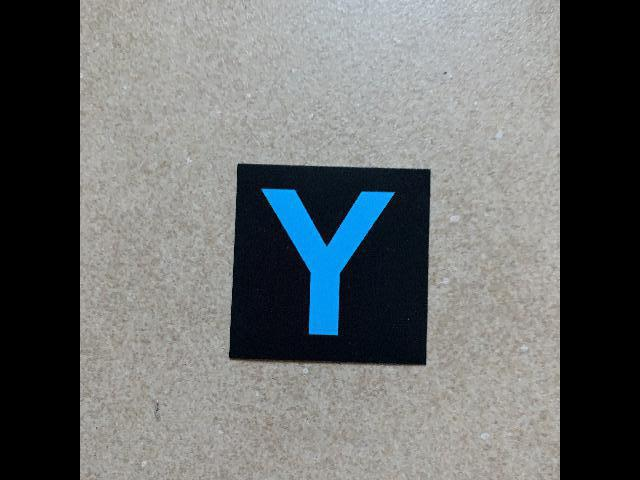y: (227, 162, 431, 367)
